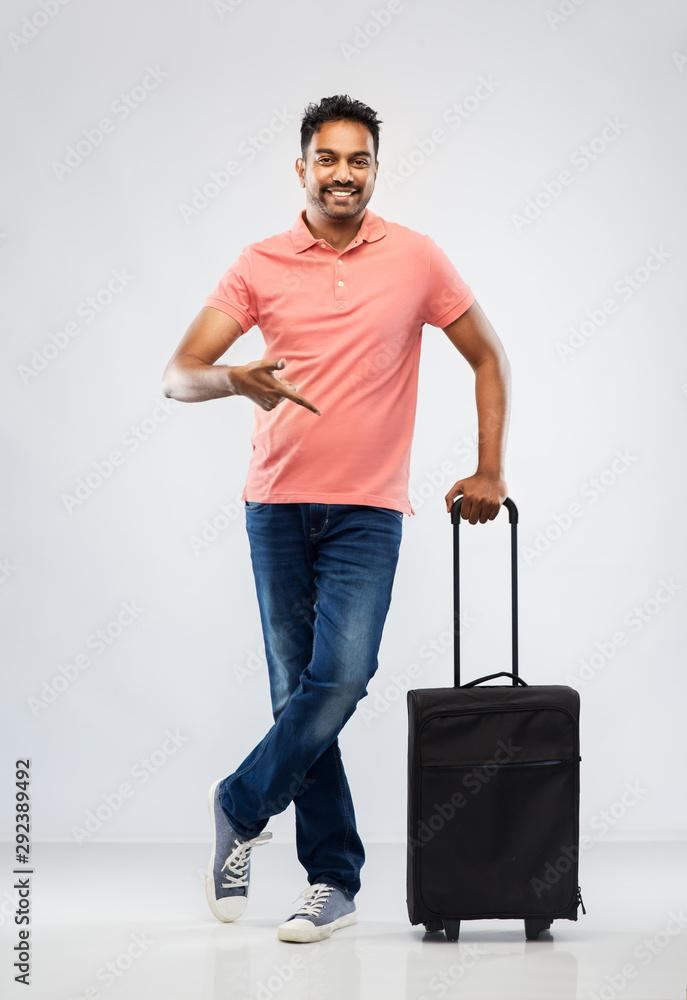Human: (148, 78, 523, 945)
